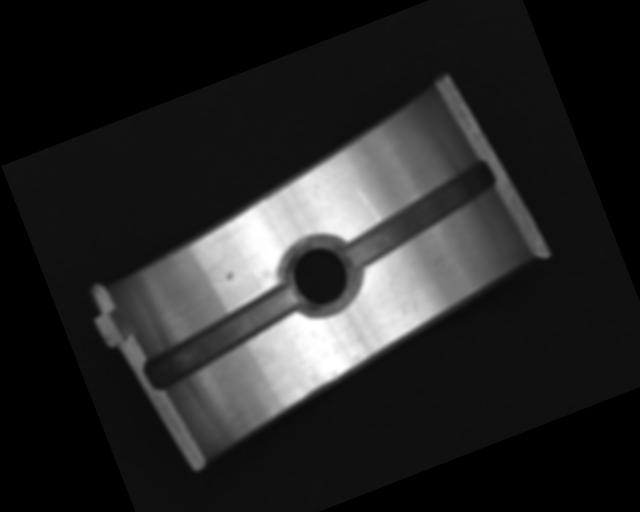bruise: (224, 271, 236, 282)
gap: (331, 158, 507, 272), (134, 283, 310, 392)
hole: (272, 223, 370, 326)
nick: (353, 181, 381, 226)
